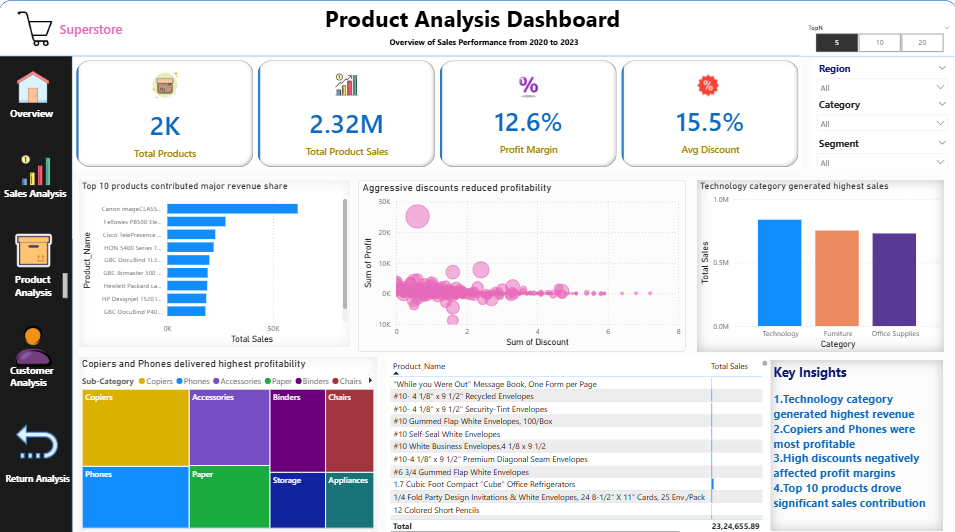

This screenshot's page, from the dashboard's own definition file:
{"tool":"powerbi","page":{"name":"Product Analysis","canvas":[1600,900],"ordinal":2},"visuals":[{"type":"shape","box":[0,0,124,900],"z":0},{"type":"shape","box":[0,0,1600,94],"z":1000},{"type":"treemap","title":"Copiers and Phones delivered highest profitability","fields":{"Group":["Orders.Sub-Category"],"Values":["Orders.Total Profit"]},"box":[134,596,496,290],"z":2000},{"type":"slicer","fields":{"Values":["Orders.Region"]},"box":[1356,98,238,60],"z":3000},{"type":"slicer","fields":{"Values":["Orders.Category"]},"box":[1356,158,238,64],"z":4000},{"type":"slicer","fields":{"Values":["Orders.Segment"]},"box":[1356,222,238,60],"z":5000},{"type":"cardVisual","fields":{"Data":["DateTable.Total Products","DateTable.Total Product Sales","Orders.Profit Margin","DateTable.Avg Discount"]},"box":[124,94,1214,188],"z":6000},{"type":"textbox","box":[540,0,748,84],"z":7000},{"type":"textbox","box":[648,54,412,78],"z":8000},{"type":"image","box":[28,8,70,78],"z":9000},{"type":"textbox","box":[98,28,220,110],"z":10000},{"type":"image","box":[26,98,66,94],"z":11000},{"type":"textbox","box":[16,172,232,322],"z":12000},{"type":"image","box":[22,228,82,116],"z":13000},{"type":"image","box":[20,368,78,100],"z":14000},{"type":"image","box":[8,518,96,120],"z":15000},{"type":"image","box":[22,690,84,92],"z":16000},{"type":"textbox","box":[4,306,278,76],"z":17000},{"type":"textbox","box":[22,450,98,52],"z":18000},{"type":"textbox","box":[16,600,98,76],"z":19000},{"type":"textbox","box":[8,782,162,68],"z":20000},{"type":"textbox","box":[1288,600,288,286],"z":21000},{"type":"barChart","title":"Top 10 products contributed major revenue share","fields":{"Category":["Orders.Product_Name"],"Y":["Orders.Daily Sales"]},"box":[134,300,452,278],"z":22000},{"type":"clusteredColumnChart","title":"Technology category generated highest sales","fields":{"Y":["Orders.Total Sales"],"Category":["Orders.Category"]},"box":[1164,300,412,286],"z":23000},{"type":"scatterChart","title":"Aggressive discounts reduced profitability","fields":{"X":["Sum(Orders.Discount)"],"Y":["Sum(Orders.Profit)"],"Size":["Sum(Orders.Sales)"],"Category":["Orders.Product_Name"]},"box":[600,300,546,286],"z":24000},{"type":"tableEx","fields":{"Values":["Orders.Product_Name","Orders.Total Sales","Orders.Total Profit","Orders.Product Rank"]},"box":[648,596,640,304],"z":25000},{"type":"slicer","fields":{"Values":["TopN_Table.Column1"]},"box":[1338,36,262,58],"z":26000}]}

Visuals, with their boxes on the page's 1600x900 design canvas (x1, y1, x2, y2). These are canvas units, not pixel positions in the 955x532 screenshot, which may show the page scaled, cropped or inside an application window:
shape: locate(0, 0, 124, 900)
shape: locate(0, 0, 1600, 94)
"Copiers and Phones delivered highest profitability" treemap: locate(134, 596, 630, 886)
slicer - Orders.Region: locate(1356, 98, 1594, 158)
slicer - Orders.Category: locate(1356, 158, 1594, 222)
slicer - Orders.Segment: locate(1356, 222, 1594, 282)
cardVisual - DateTable.Total Products x DateTable.Total Product Sales: locate(124, 94, 1338, 282)
textbox: locate(540, 0, 1288, 84)
textbox: locate(648, 54, 1060, 132)
image: locate(28, 8, 98, 86)
textbox: locate(98, 28, 318, 138)
image: locate(26, 98, 92, 192)
textbox: locate(16, 172, 248, 494)
image: locate(22, 228, 104, 344)
image: locate(20, 368, 98, 468)
image: locate(8, 518, 104, 638)
image: locate(22, 690, 106, 782)
textbox: locate(4, 306, 282, 382)
textbox: locate(22, 450, 120, 502)
textbox: locate(16, 600, 114, 676)
textbox: locate(8, 782, 170, 850)
textbox: locate(1288, 600, 1576, 886)
"Top 10 products contributed major revenue share" barChart: locate(134, 300, 586, 578)
"Technology category generated highest sales" clusteredColumnChart: locate(1164, 300, 1576, 586)
"Aggressive discounts reduced profitability" scatterChart: locate(600, 300, 1146, 586)
tableEx - Orders.Product_Name x Orders.Total Sales: locate(648, 596, 1288, 900)
slicer - TopN_Table.Column1: locate(1338, 36, 1600, 94)
